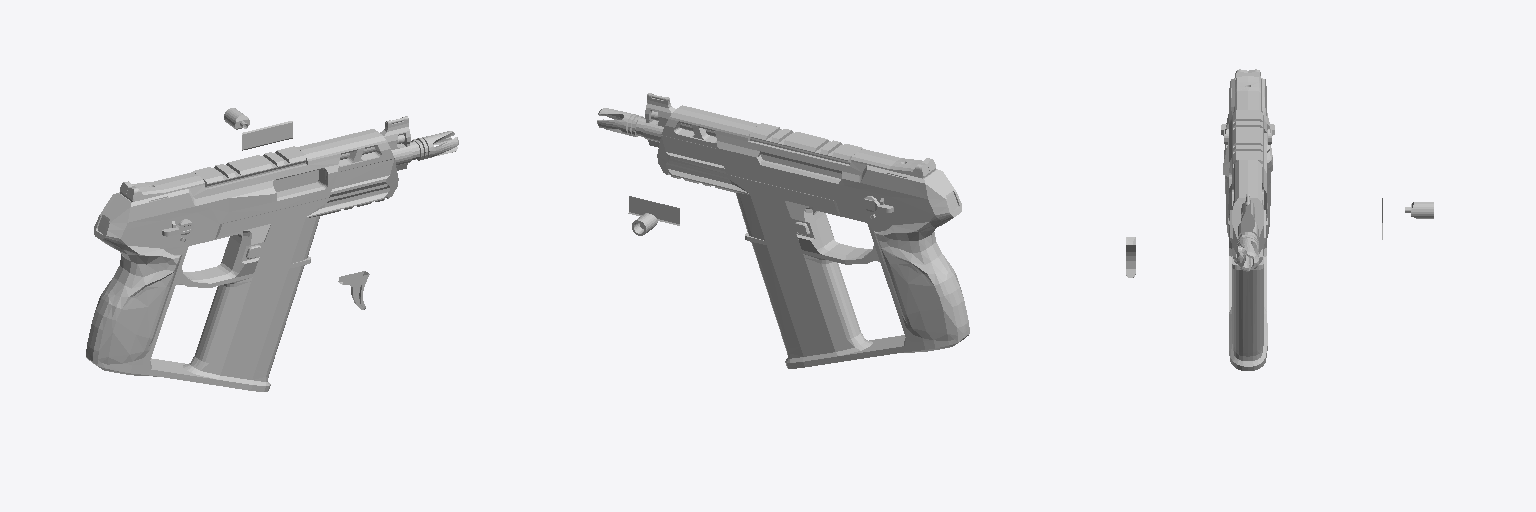
File: frenzy.obj
3 views of the same model, side by side, from view 1: azimuth 30°, elevation 25°; view 2: azimuth 150°, elevation 25°; view 3: azimuth 270°, elevation 25° (orthographic).
Visible parts, largest first — view 1: GN_AutoPistol_S0_Skelmesh.001; view 2: GN_AutoPistol_S0_Skelmesh.001; view 3: GN_AutoPistol_S0_Skelmesh.001.
Part boxes in pixels (bbox=[...]): GN_AutoPistol_S0_Skelmesh.001: bbox=[86, 108, 458, 391]; GN_AutoPistol_S0_Skelmesh.001: bbox=[597, 93, 969, 368]; GN_AutoPistol_S0_Skelmesh.001: bbox=[1126, 69, 1433, 370].
Size of the model in its own units: 40.9 by 25.29 by 29.8.